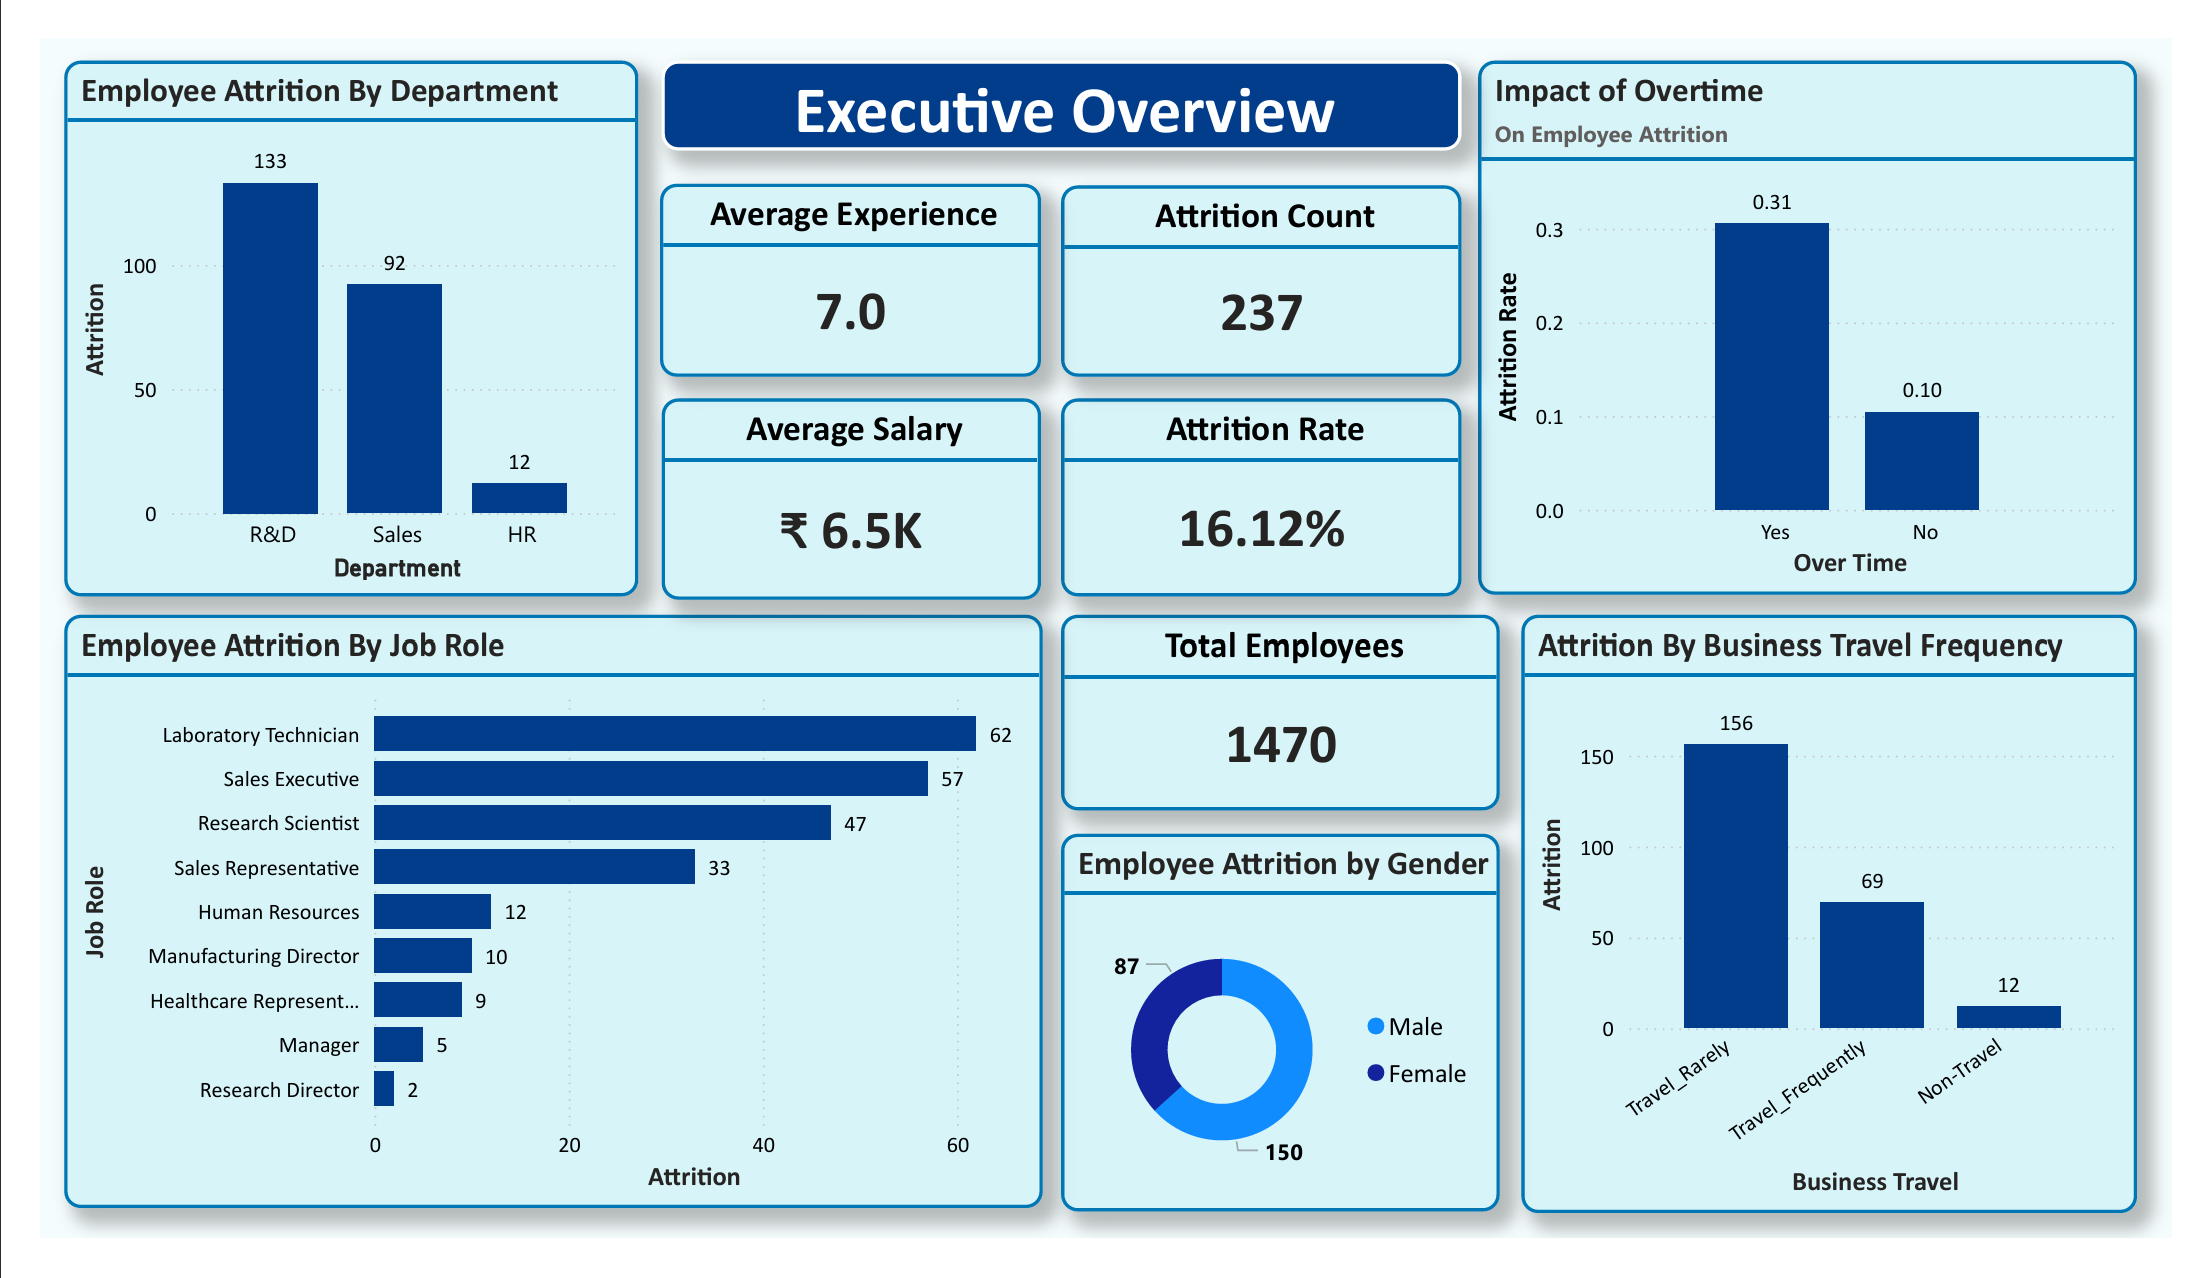

The dashboard page shown, as its layout file describes it:
{"tool":"powerbi","page":{"name":"Executive Overwiew","canvas":[1280,720],"ordinal":0},"visuals":[{"type":"card","title":"Total Employees","fields":{"Values":["HR data.Total_emp"]},"box":[612.9,345.7,262.9,117.1],"z":0},{"type":"clusteredColumnChart","title":"Employee Attrition By Department","fields":{"Category":["HR data.Department"],"Y":["HR data.attrition_count"]},"box":[13.9,12.9,344.6,321.8],"z":2000},{"type":"clusteredBarChart","title":"Employee Attrition By Job Role","fields":{"Category":["HR data.Job Role"],"Y":["HR data.attrition_count"]},"box":[13.9,345.6,587.9,356.5],"z":3000},{"type":"donutChart","title":"Employee Attrition by Gender","fields":{"Category":["HR data.Gender"],"Y":["HR data.attrition_count"]},"box":[612.9,477.1,262.9,227.1],"z":4000},{"type":"columnChart","title":"Impact of Overtime ","fields":{"Category":["HR data.Over Time"],"Y":["HR data.attrition_rate"]},"box":[862.9,12.9,395.7,321.4],"z":5000},{"type":"clusteredColumnChart","title":"Attrition By Business Travel Frequency","fields":{"Category":["HR data.Business Travel"],"Y":["HR data.attrition_count"]},"box":[888.7,345.9,369.8,359.1],"z":6000},{"type":"textbox","title":"Executive Overview","box":[372.5,13,480.3,53.9],"z":7000},{"type":"card","title":"Attrition Rate","fields":{"Values":["HR data.attrition_rate"]},"box":[612.7,215.5,240.3,119.2],"z":8000},{"type":"card","title":" Attrition Count","fields":{"Values":["HR data.attrition_count"]},"box":[612.7,88.4,240.3,114.2],"z":9000},{"type":"card","title":"Average Experience","fields":{"Values":["HR data.avg_experience"]},"box":[372.4,87.4,228.4,115.2],"z":10000},{"type":"card","title":"Average Salary","fields":{"Values":["HR data.avg_salary"]},"box":[373.4,215.5,227.4,121.2],"z":11000}]}

Visuals, with their boxes in screenshot pixels (x1, y1, x2, y2), scaled from the page's 1280x720 canvas onto the 2210x1278 screenshot:
"Total Employees" card: bbox(1058, 614, 1512, 821)
"Employee Attrition By Department" clusteredColumnChart: bbox(24, 23, 619, 594)
"Employee Attrition By Job Role" clusteredBarChart: bbox(24, 613, 1039, 1246)
"Employee Attrition by Gender" donutChart: bbox(1058, 847, 1512, 1250)
"Impact of Overtime " columnChart: bbox(1490, 23, 2173, 593)
"Attrition By Business Travel Frequency" clusteredColumnChart: bbox(1534, 614, 2173, 1251)
"Executive Overview" textbox: bbox(643, 23, 1472, 119)
"Attrition Rate" card: bbox(1058, 383, 1473, 594)
" Attrition Count" card: bbox(1058, 157, 1473, 360)
"Average Experience" card: bbox(643, 155, 1037, 360)
"Average Salary" card: bbox(645, 383, 1037, 598)
